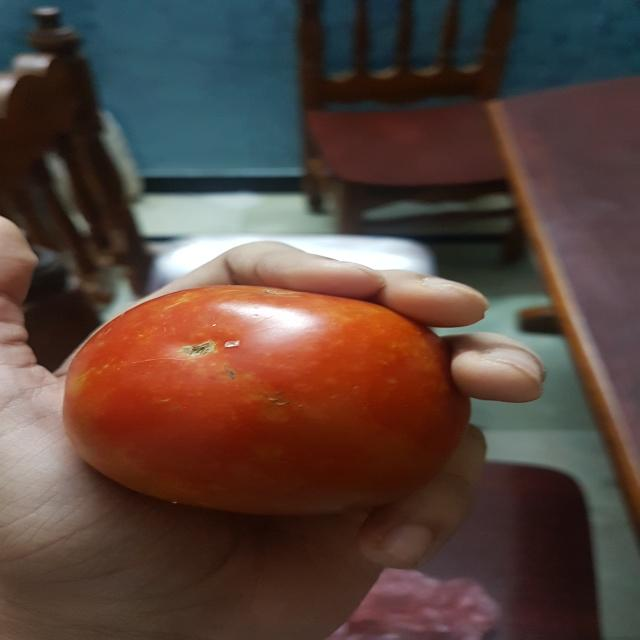tomato: (57, 282, 474, 518)
